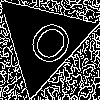O: (18, 16, 78, 77)
